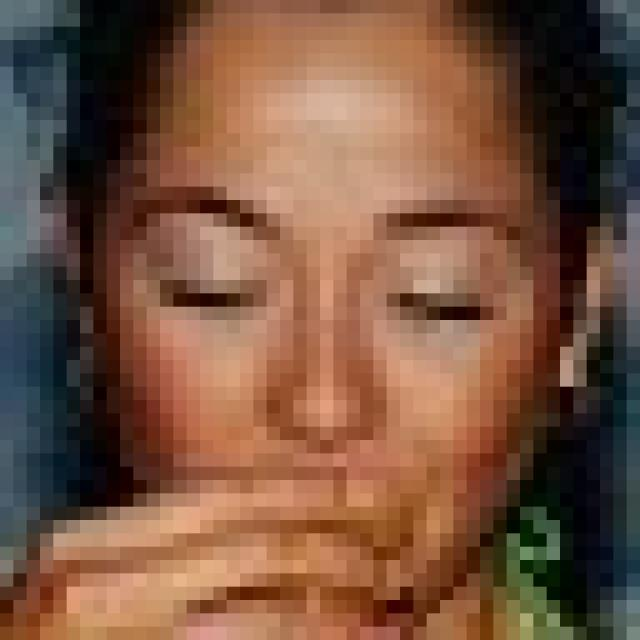Eyeclosed: (167, 264, 254, 325), (391, 287, 499, 336)
